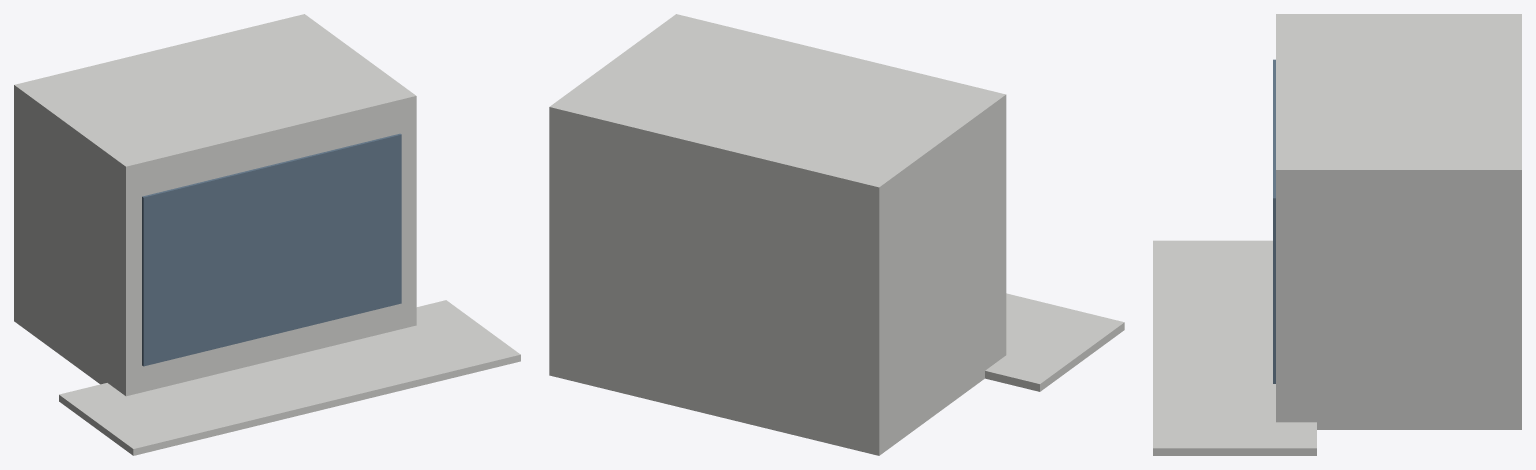
Rendered from gov_center.glb.
3 views of the same model, side by side, from view 1: azimuth 30°, elevation 25°; view 2: azimuth 150°, elevation 25°; view 3: azimuth 270°, elevation 25° (orthographic). The views are drawn at different scales.
Visible parts, largest first — view 1: body, glass, plaza; view 2: body, plaza; view 3: body, plaza, glass.
Boxes of the visible parts, left/top/right/bottom form: body: left=14, top=14, right=416, bottom=396; glass: left=142, top=133, right=401, bottom=366; plaza: left=59, top=300, right=520, bottom=455; body: left=549, top=14, right=1006, bottom=455; plaza: left=985, top=293, right=1124, bottom=391; body: left=1276, top=14, right=1521, bottom=429; plaza: left=1153, top=240, right=1316, bottom=455; glass: left=1273, top=59, right=1275, bottom=383.
Size of the model in its own units: 24 by 14 by 18.
